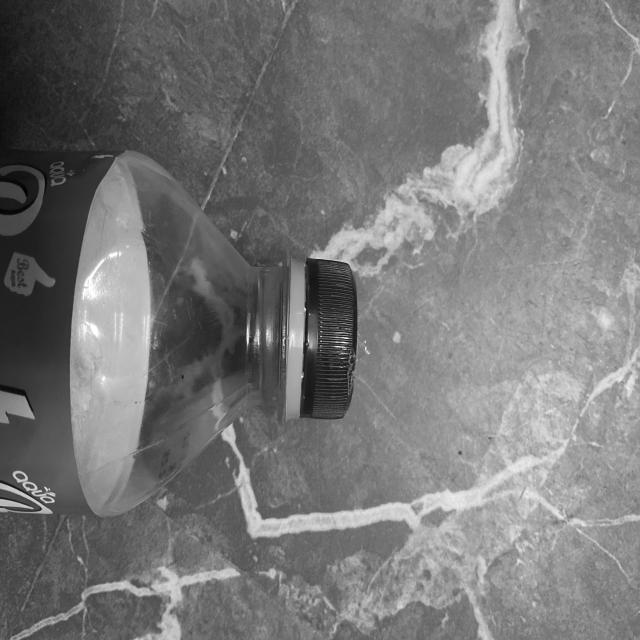Good-cap-Df0S: (282, 249, 358, 434)
